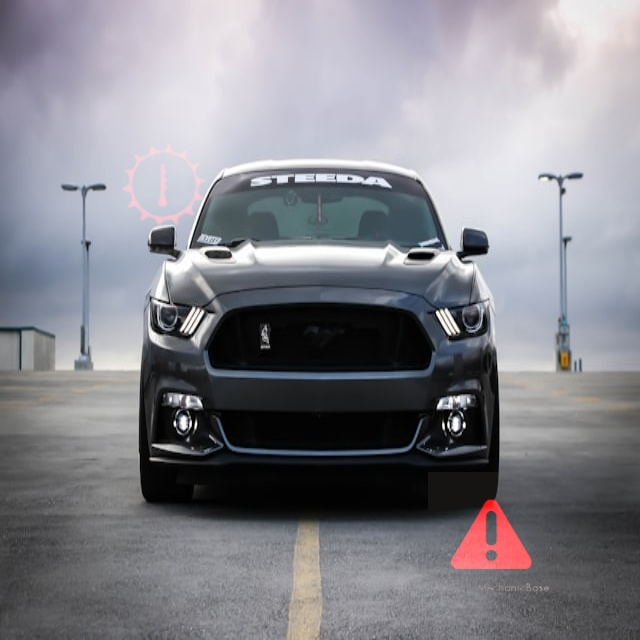symbol: (86, 107, 244, 265), (428, 472, 554, 598)
